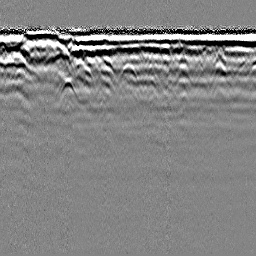cavity: (118, 63, 139, 82)
